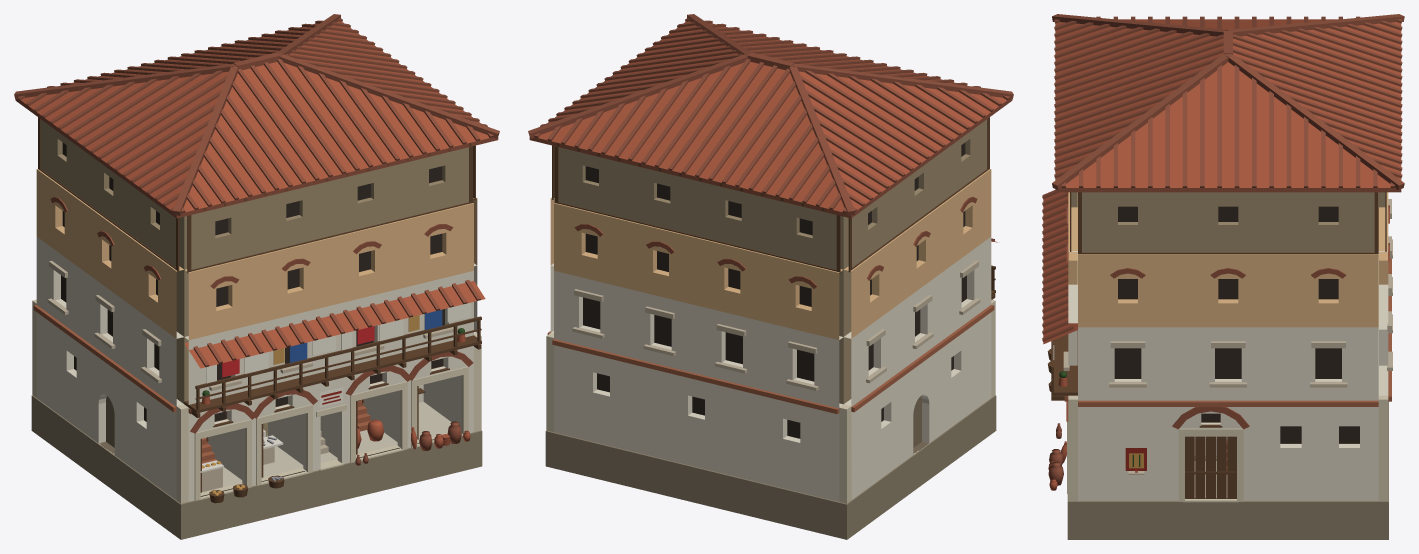
The model's file is rome_insula_d.glb.
The picture shows the model from 3 angles, left to right: view 1: azimuth 30°, elevation 25°; view 2: azimuth 150°, elevation 25°; view 3: azimuth 270°, elevation 25°; orthographic projection. The views are drawn at different scales.
Parts seen in each view (by area): view 1: rome_insula_d; view 2: rome_insula_d; view 3: rome_insula_d.
Boxes of the visible parts, box(x1,y1,x2,y2) form: rome_insula_d: box(14, 14, 499, 539); rome_insula_d: box(528, 14, 1013, 539); rome_insula_d: box(1042, 14, 1404, 539).
Size of the model in its own units: 15.25 by 17.35 by 13.61.
